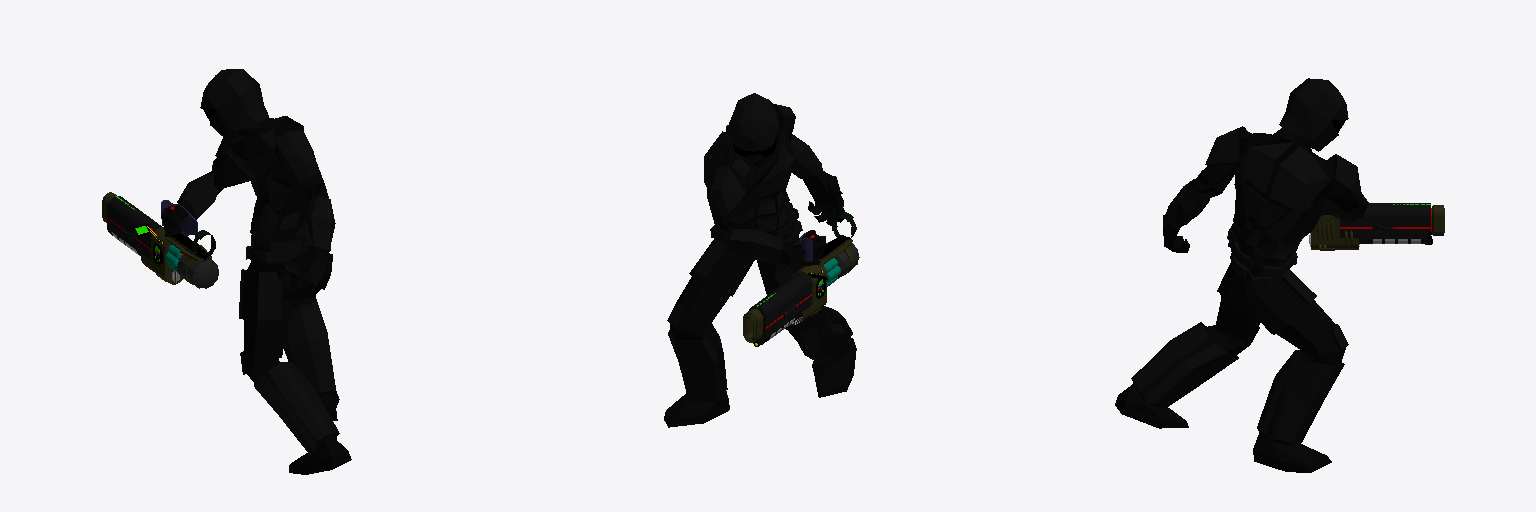
Rendered from LaserRifle.obj.
The picture shows the model from 3 angles: view 1: azimuth 30°, elevation 25°; view 2: azimuth 150°, elevation 25°; view 3: azimuth 270°, elevation 25°; orthographic projection.
Visible parts, largest first — view 1: Mesh.068_Mesh_Mesh_Mesh_Cube.001, Mesh.031_ca__n; view 2: Mesh.068_Mesh_Mesh_Mesh_Cube.001, Mesh.031_ca__n; view 3: Mesh.068_Mesh_Mesh_Mesh_Cube.001, Mesh.031_ca__n.
Part boxes in pixels (x1,y1,x2,y2): Mesh.068_Mesh_Mesh_Mesh_Cube.001: (161,69,351,474); Mesh.031_ca__n: (102,192,218,288); Mesh.068_Mesh_Mesh_Mesh_Cube.001: (664,93,856,427); Mesh.031_ca__n: (743,212,859,346); Mesh.068_Mesh_Mesh_Mesh_Cube.001: (1115,78,1368,472); Mesh.031_ca__n: (1309,203,1444,250).
Size of the model in its own units: 4 by 7.49 by 6.4.